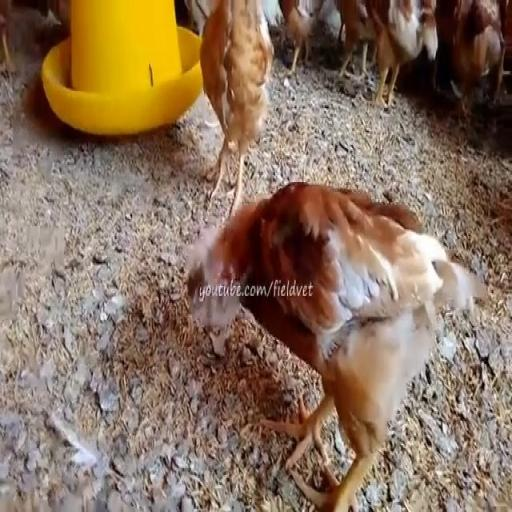disease: (191, 256, 240, 359)
